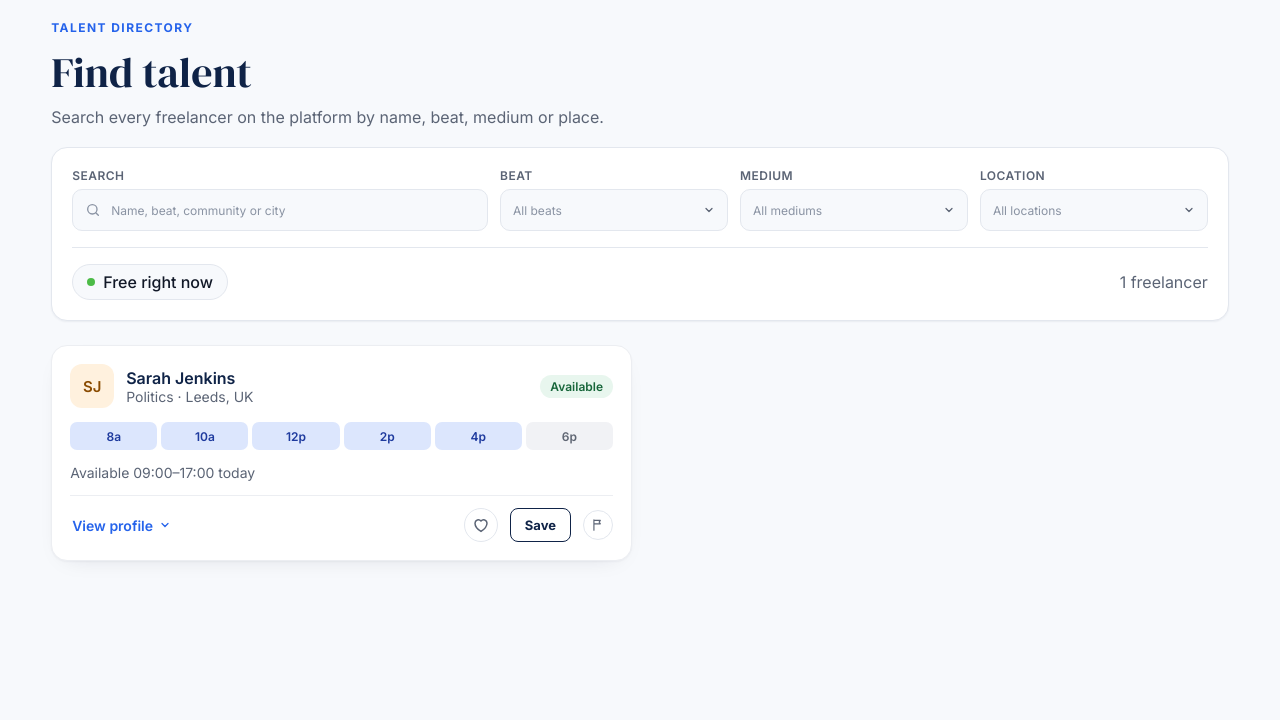
it: TalentSearch › reports a refused save and leaves the card alone
What coordinates should you click on to do the following:
click the button with aria-label "Save Sarah Jenkins to your roster"
I would click on:
 (540, 525)
Its box is x1=510 y1=508 x2=571 y2=542.
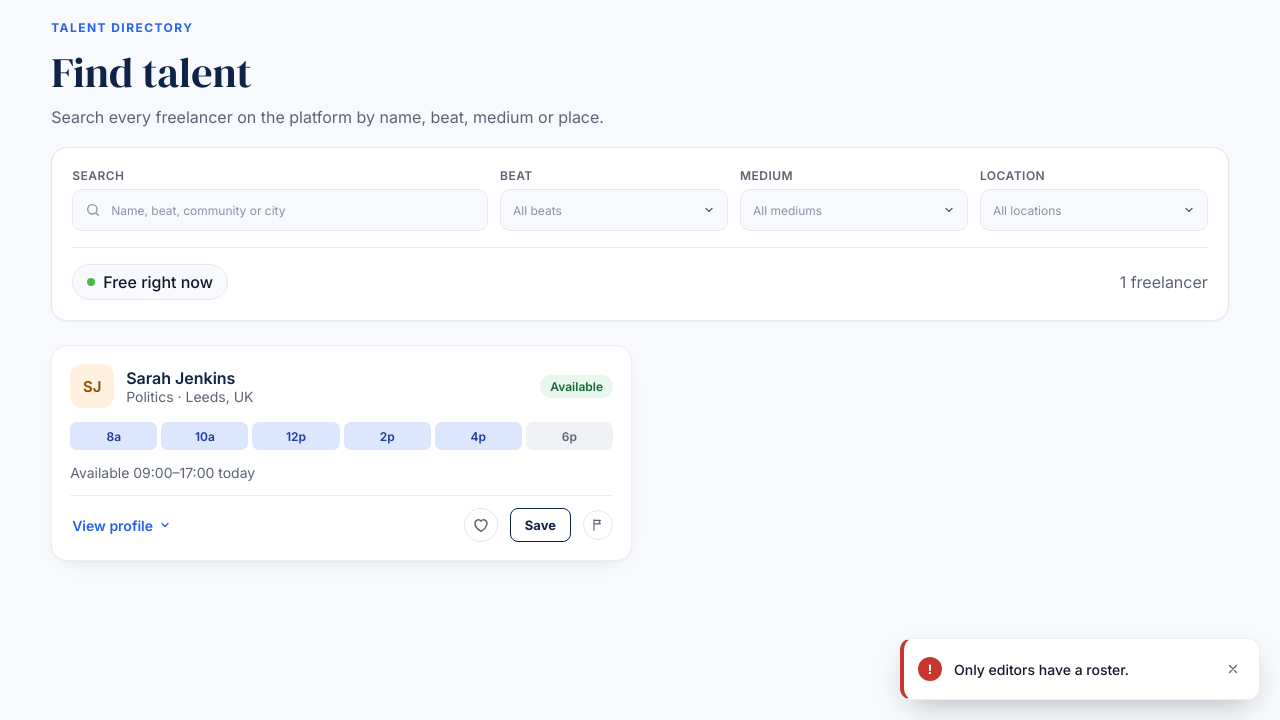
expect the text "Only editors have a roster." is shown: met, box x1=954 y1=660 x2=1129 y2=678
